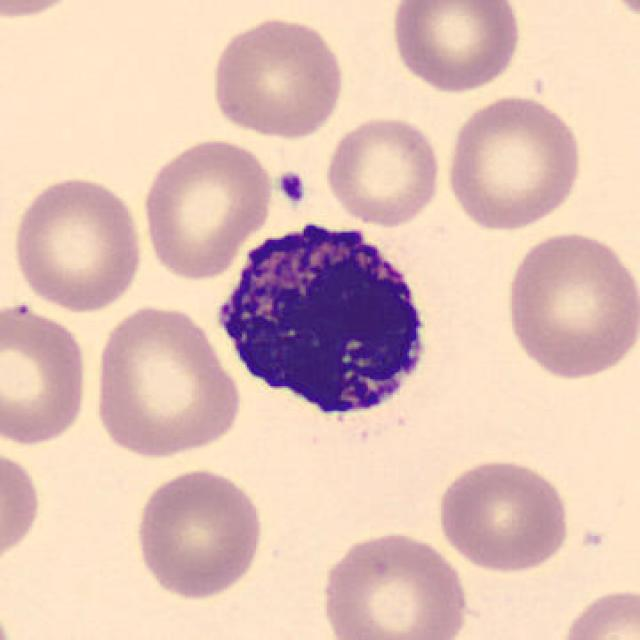Basophil: (206, 204, 441, 436)
Platelets: (274, 168, 309, 206)
RBC: (91, 298, 245, 460), (502, 226, 638, 384), (138, 134, 276, 282), (442, 91, 586, 232), (9, 171, 146, 314), (130, 464, 266, 603), (206, 12, 348, 141), (316, 527, 474, 640), (432, 455, 574, 575), (322, 113, 444, 229), (0, 300, 92, 448), (386, 0, 526, 95), (0, 442, 44, 574), (554, 583, 638, 640), (0, 0, 89, 21), (597, 0, 640, 32), (0, 596, 18, 640)
